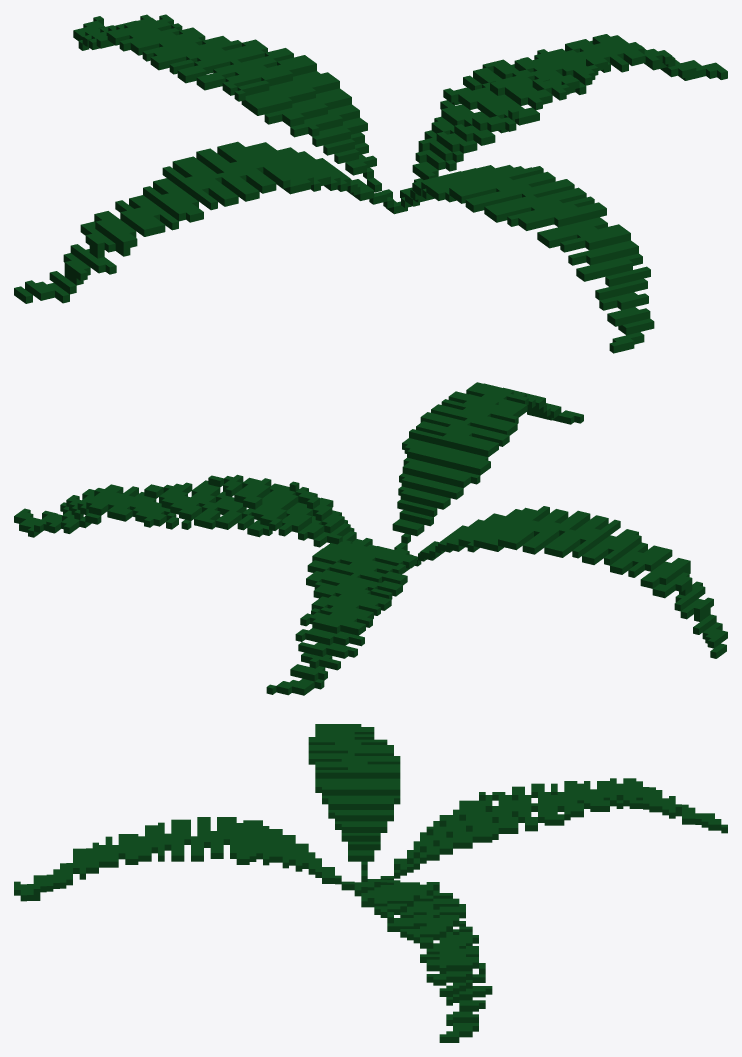
Rendered from Bushes-2.fbx.
3 views of the same model, one above another, from view 1: azimuth 30°, elevation 25°; view 2: azimuth 150°, elevation 25°; view 3: azimuth 270°, elevation 25° (orthographic). The views are drawn at different scales.
Parts seen in each view (by area): view 1: Bushes-2; view 2: Bushes-2; view 3: Bushes-2.
Boxes of the visible parts, x1,y1,x2,y2 form: Bushes-2: [14, 14, 727, 353]; Bushes-2: [14, 382, 727, 695]; Bushes-2: [14, 724, 727, 1042].
Bounding box in the file's own units: 108 × 12 × 109.
